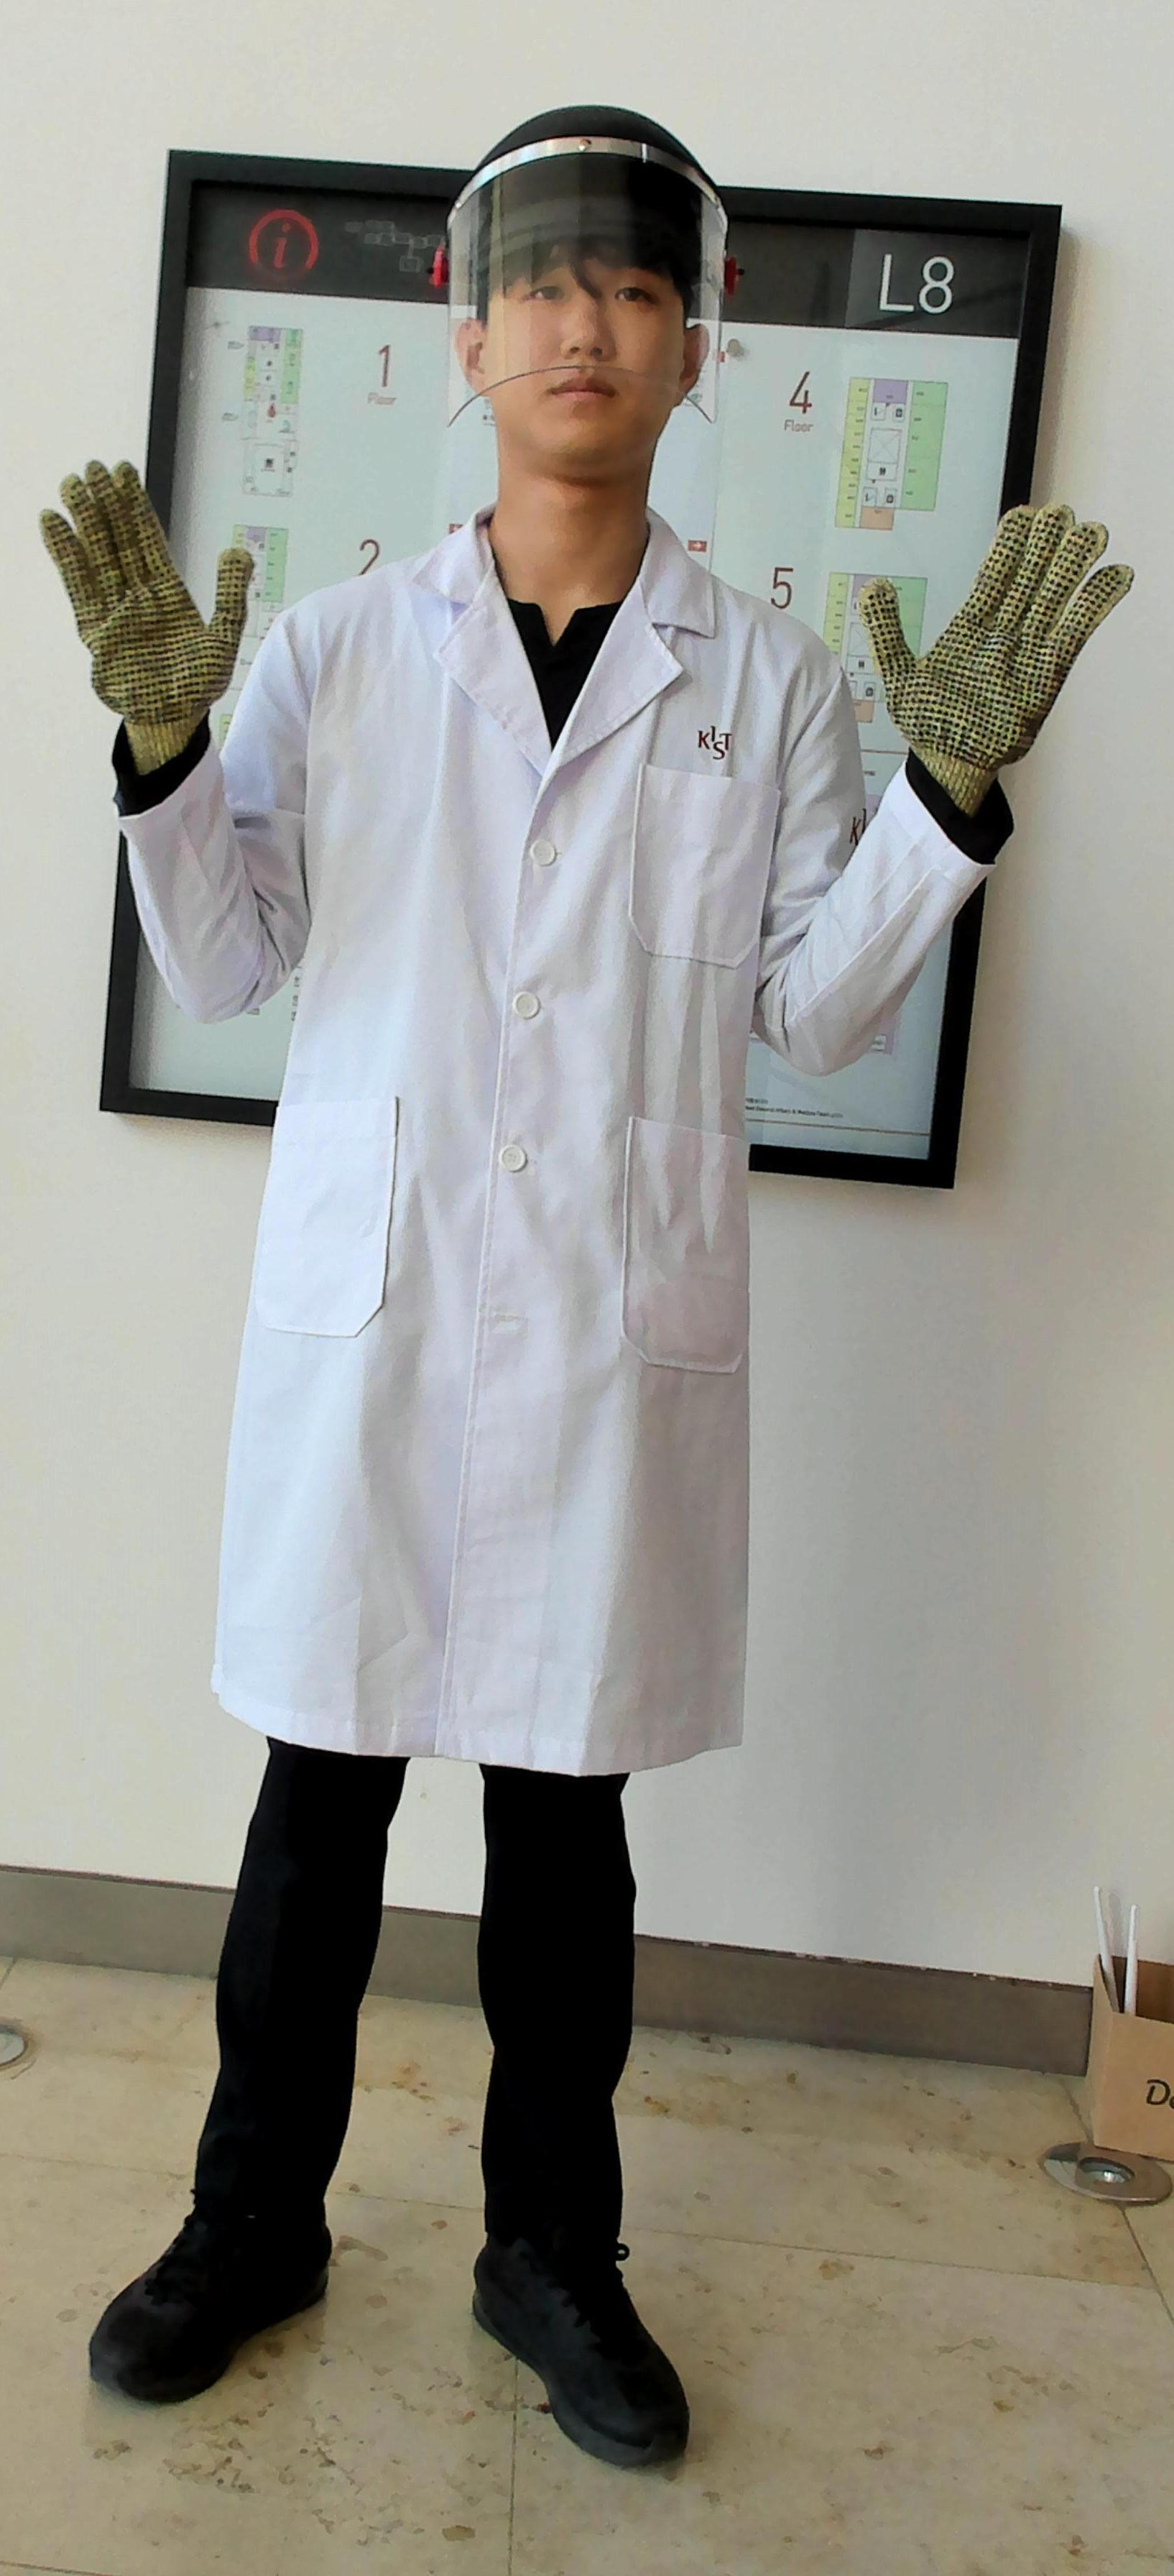lab_coat: (241, 613, 806, 1758)
